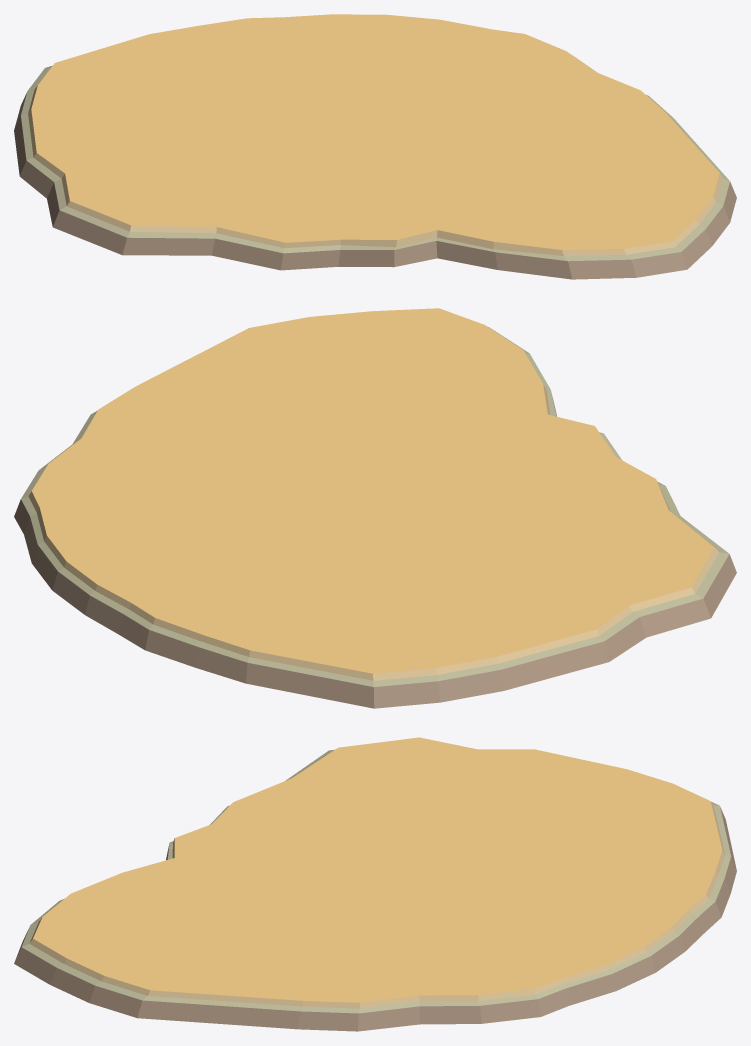
The model's file is groundPlatform3-brown.fbx.
The picture shows the model from 3 angles, top to bottom: view 1: azimuth 30°, elevation 25°; view 2: azimuth 150°, elevation 25°; view 3: azimuth 270°, elevation 25°; orthographic projection. The views are drawn at different scales.
Parts seen in each view (by area): view 1: Cylinder.001; view 2: Cylinder.001; view 3: Cylinder.001.
Boxes of the visible parts, x1,y1,x2,y2 form: Cylinder.001: (14, 14, 736, 279); Cylinder.001: (14, 308, 736, 708); Cylinder.001: (14, 737, 736, 1031).
Bounding box in the file's own units: 964 × 43.26 × 1052.
